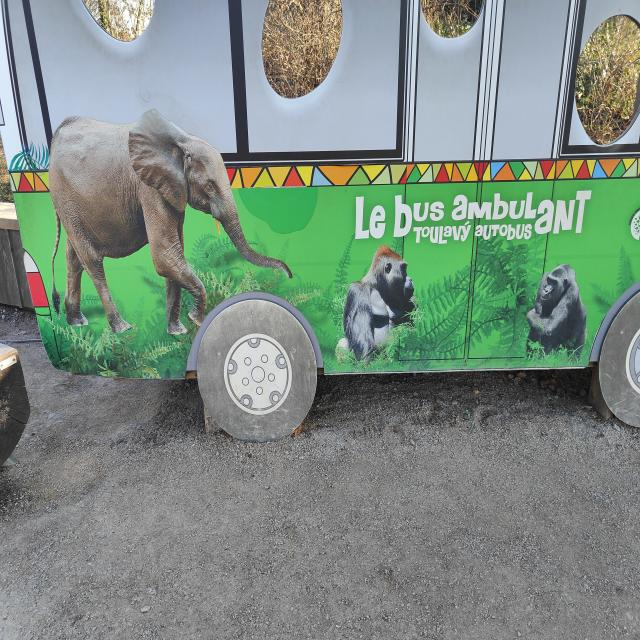raccoon: (49, 109, 292, 335), (343, 244, 420, 366), (526, 264, 588, 362)
